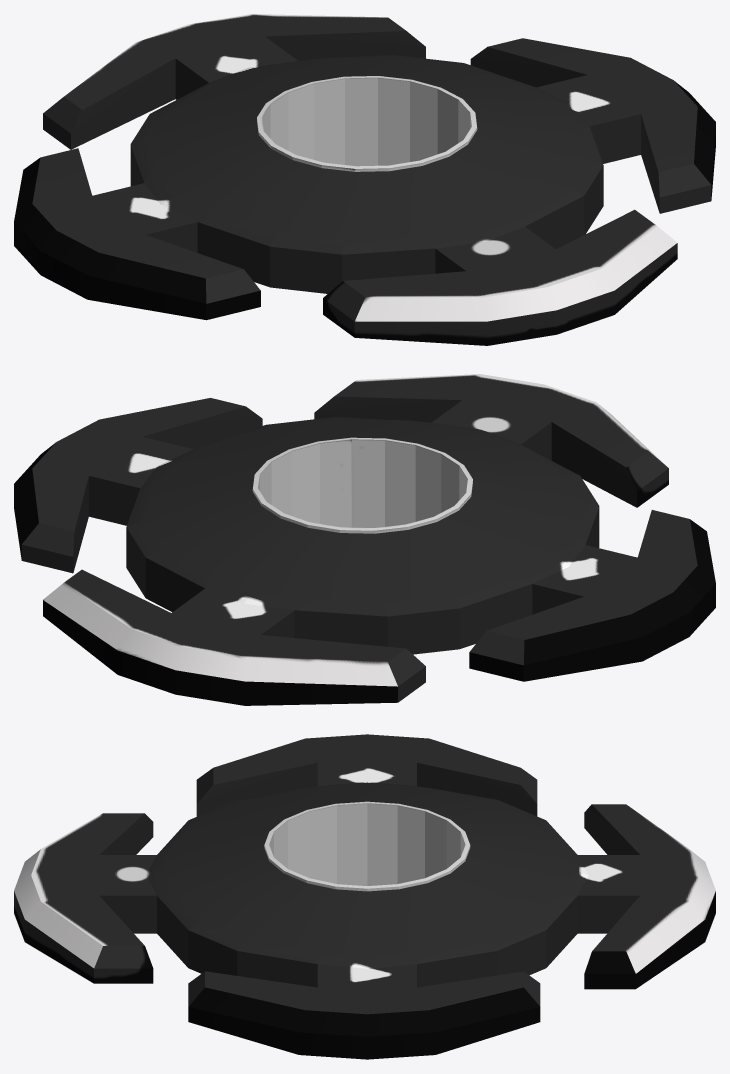
The model's file is Shield Generator.fbx.
3 renders of one model, top to bottom at view 1: azimuth 30°, elevation 25°; view 2: azimuth 150°, elevation 25°; view 3: azimuth 270°, elevation 25°, orthographic. The views are drawn at different scales.
Visible parts, largest first — view 1: pCylinder9; view 2: pCylinder9; view 3: pCylinder9.
Part boxes in pixels (bbox=[...]): pCylinder9: bbox=[14, 14, 715, 345]; pCylinder9: bbox=[14, 374, 715, 705]; pCylinder9: bbox=[14, 734, 715, 1059].
Bounding box in the file's own units: 96.45 × 15.83 × 97.19.
1 material, 1 textured.
